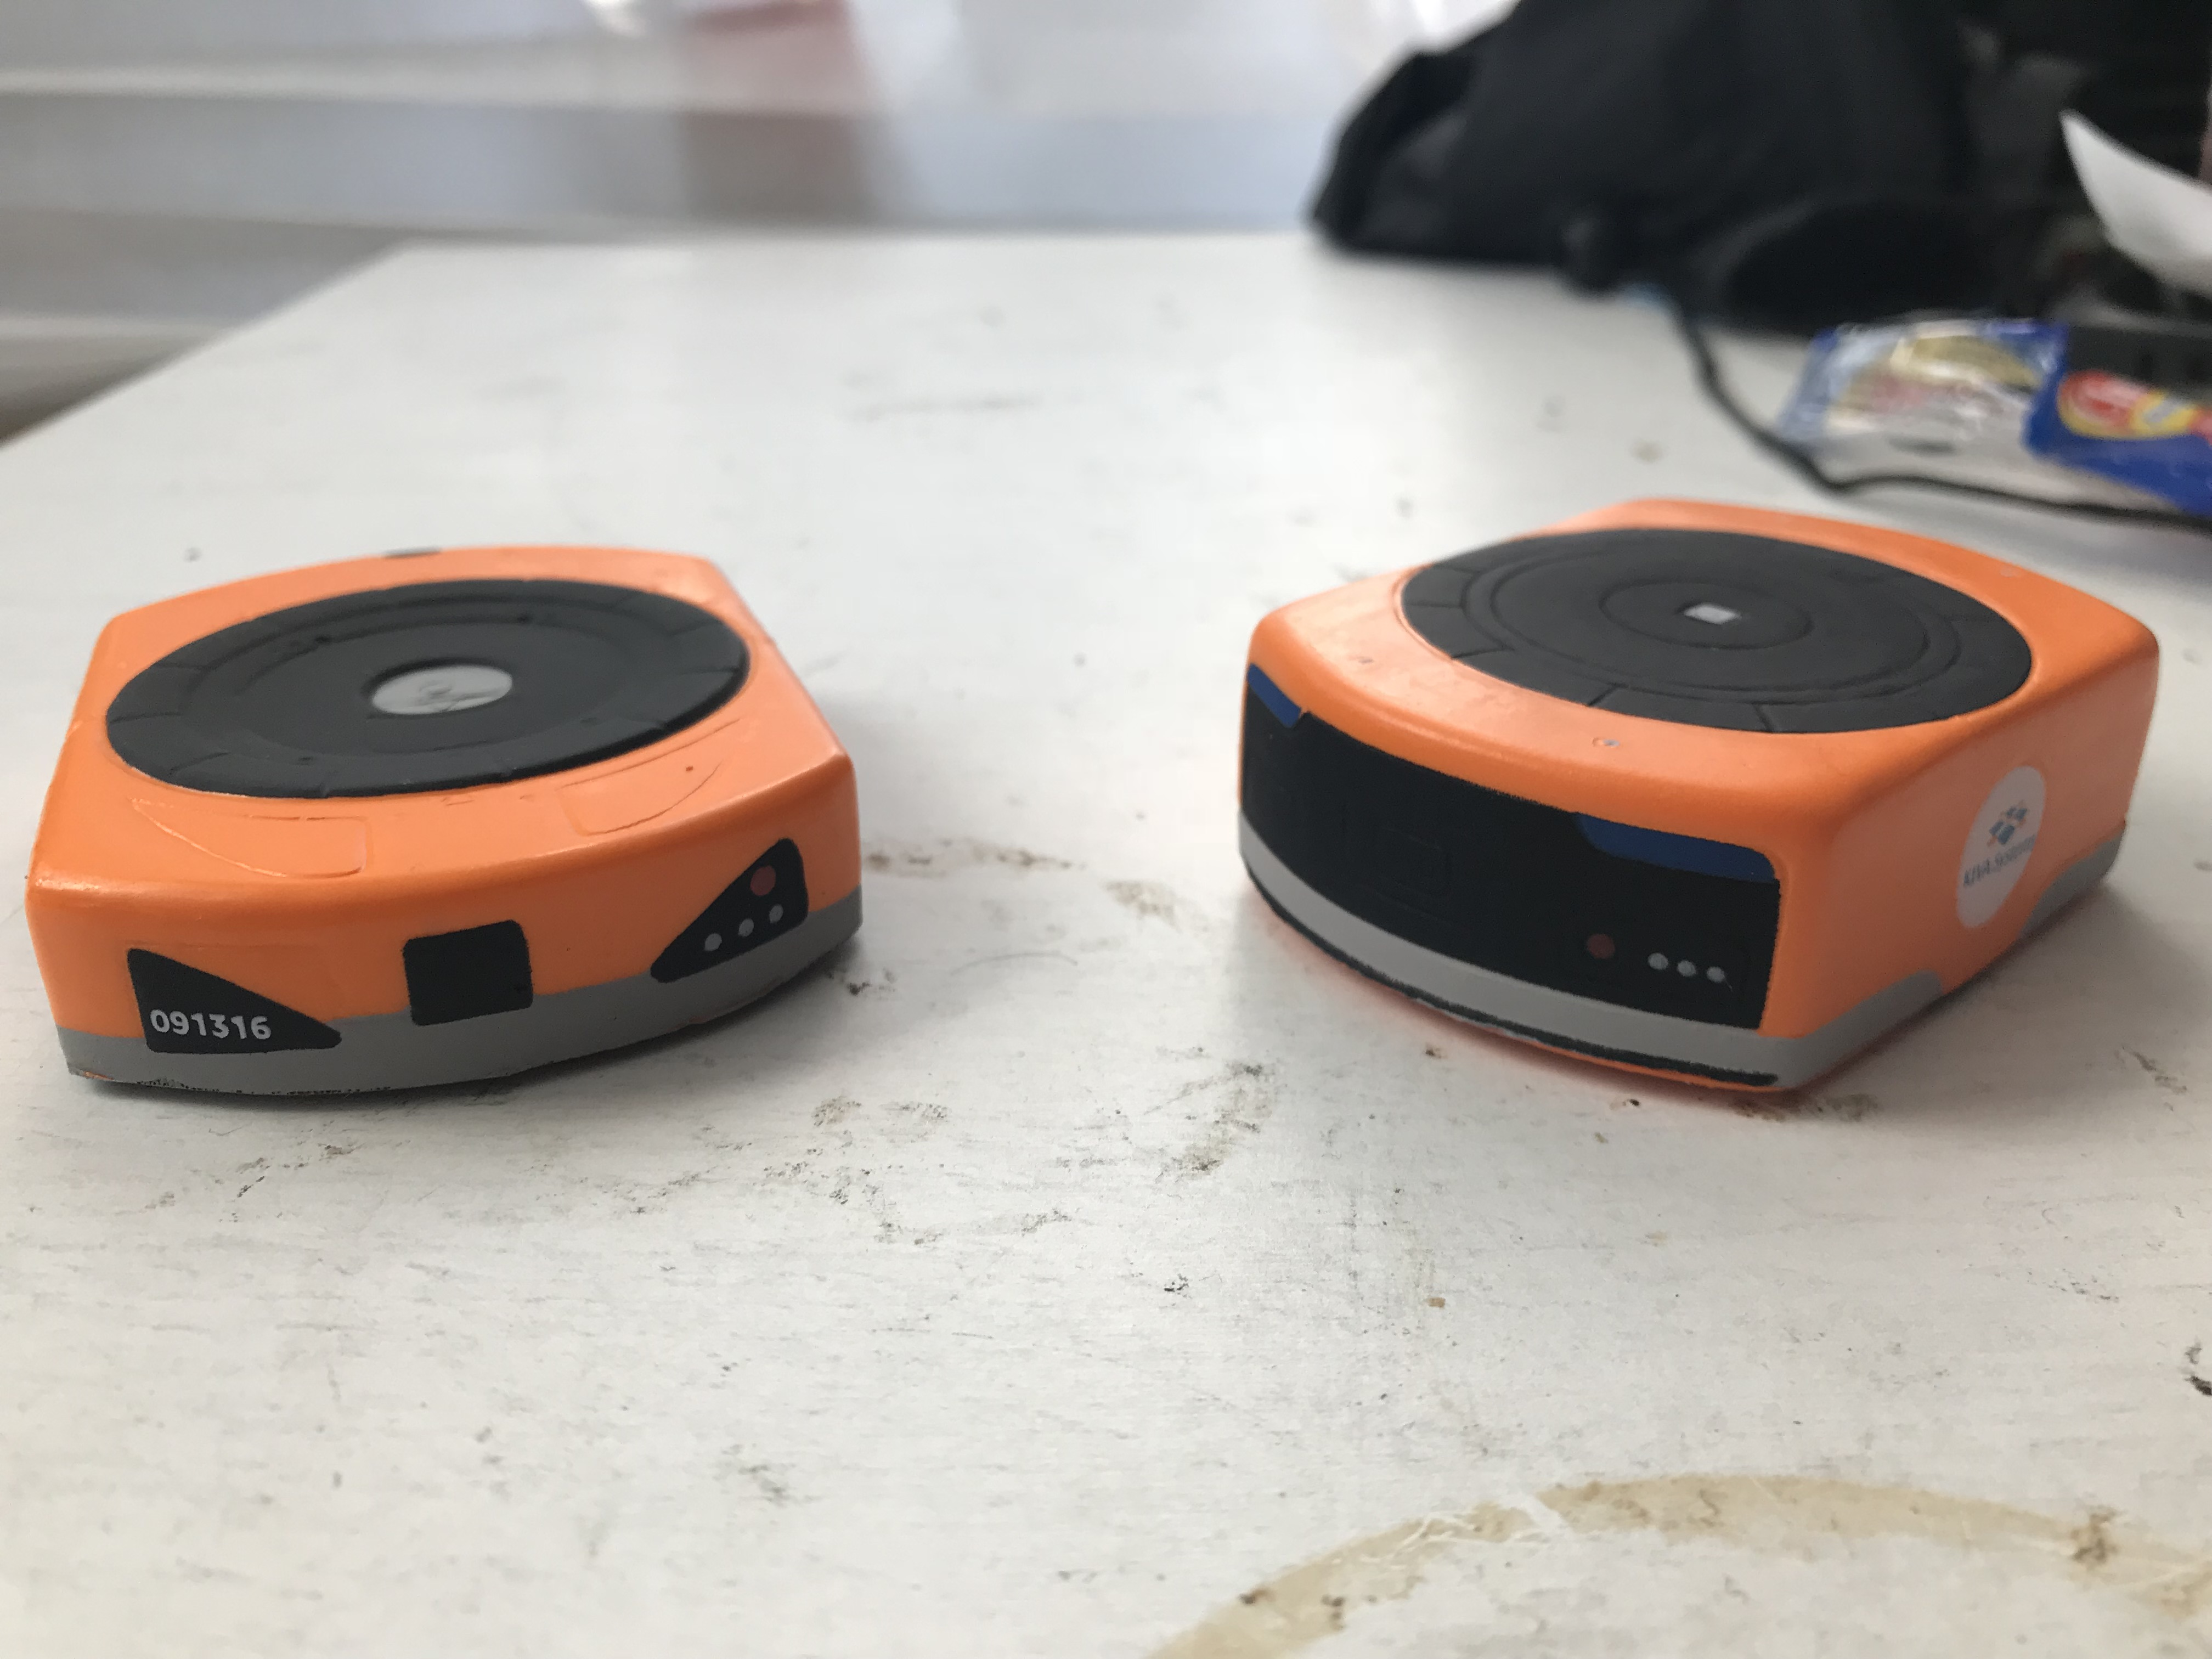amazon_bot: (1200, 479, 2188, 1187), (16, 532, 873, 1134)
